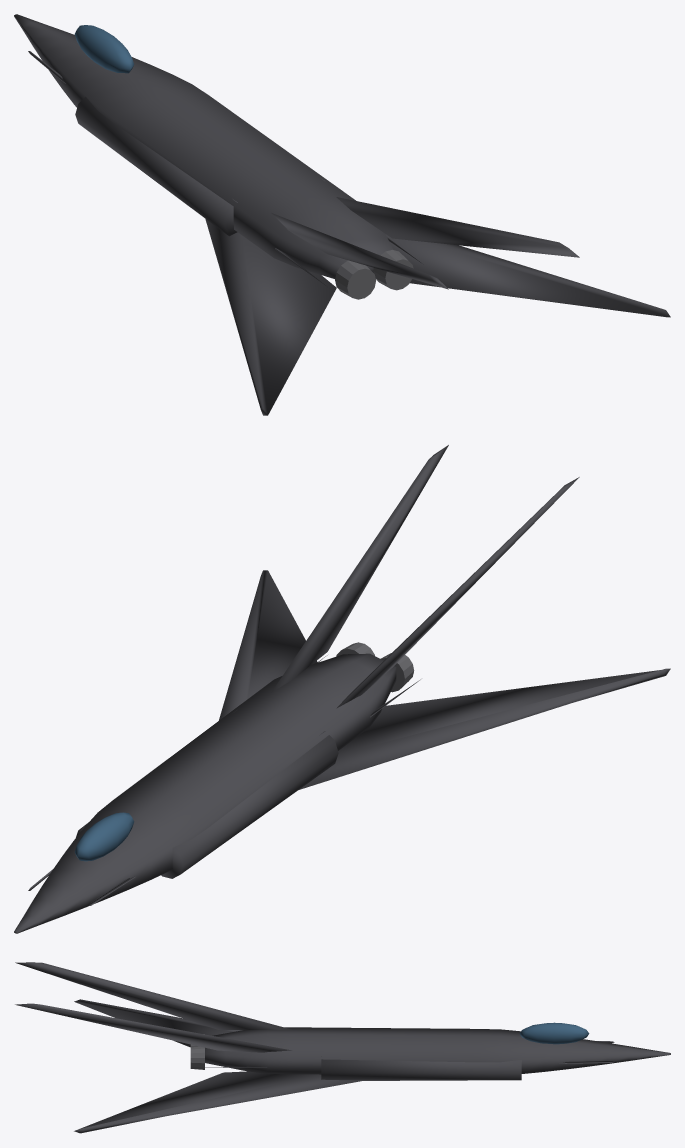
3 views of the same model, one above another, from view 1: azimuth 30°, elevation 25°; view 2: azimuth 150°, elevation 25°; view 3: azimuth 270°, elevation 25° (orthographic). The views are drawn at different scales.
Visible parts, largest first — view 1: Body, Detail, Canopy; view 2: Body, Canopy, Detail; view 3: Body, Canopy, Detail.
Part boxes in pixels (x1,y1,x2,y2): Body: [14, 14, 670, 415]; Detail: [335, 250, 413, 299]; Canopy: [74, 25, 134, 73]; Body: [14, 445, 670, 933]; Canopy: [74, 812, 134, 861]; Detail: [336, 642, 414, 692]; Body: [15, 962, 670, 1133]; Canopy: [519, 1022, 589, 1044]; Detail: [190, 1034, 204, 1069].
Size of the model in its own units: 1320 by 425 by 2832.
